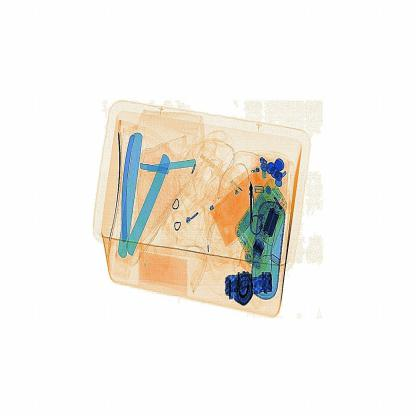knife: (240, 178, 260, 231)
